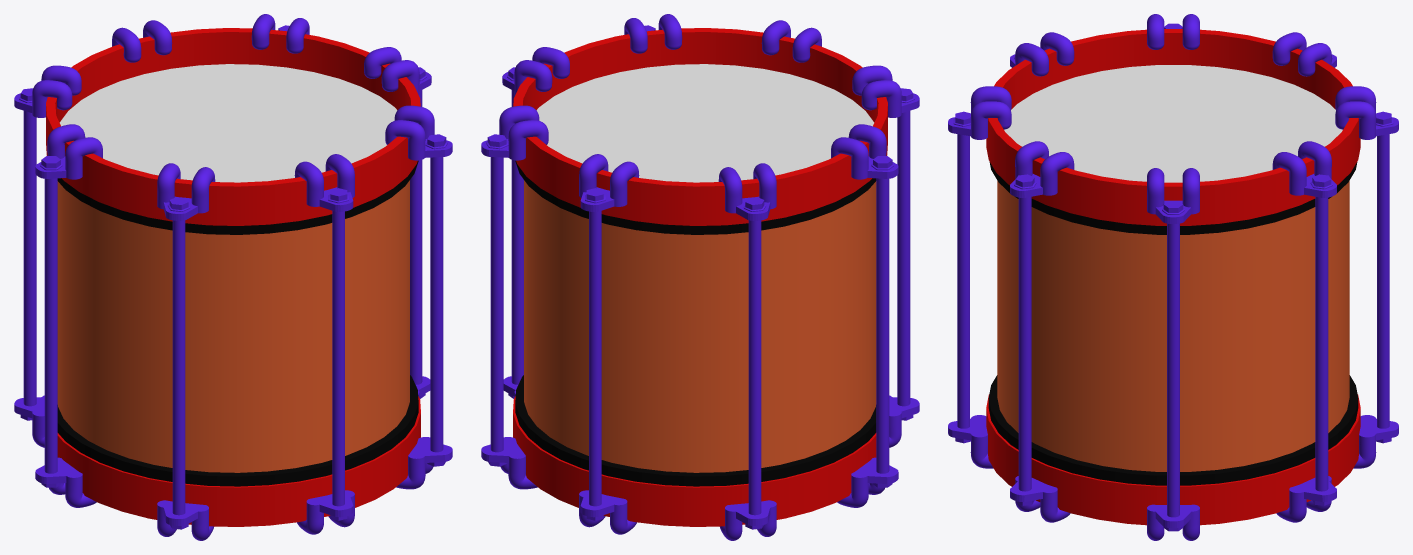
The model's file is Drums.fbx.
3 renders of one model, left to right at view 1: azimuth 30°, elevation 25°; view 2: azimuth 150°, elevation 25°; view 3: azimuth 270°, elevation 25°, orthographic.
Visible parts, largest first — view 1: Cylinder, Cylinder.002, Cylinder.008, Cylinder.006, Cylinder.004, Cylinder.007, Cylinder.001, Cylinder.003, Cylinder.005; view 2: Cylinder, Cylinder.002, Cylinder.005, Cylinder.007, Cylinder.003, Cylinder.006, Cylinder.001, Cylinder.004, Cylinder.008; view 3: Cylinder, Cylinder.005, Cylinder.008, Cylinder.001, Cylinder.003, Cylinder.004, Cylinder.006, Cylinder.007, Cylinder.002.
Part boxes in pixels (x1,y1,x2,y2): Cylinder: (46,28,420,526); Cylinder.002: (35,124,102,507); Cylinder.008: (385,105,452,489); Cylinder.006: (157,163,215,540); Cylinder.004: (294,154,354,534); Cylinder.007: (14,65,81,447); Cylinder.001: (364,47,431,398); Cylinder.003: (112,20,172,62); Cylinder.005: (251,14,309,53); Cylinder: (513,28,887,526); Cylinder.002: (831,124,898,507); Cylinder.005: (481,105,548,489); Cylinder.007: (718,163,776,540); Cylinder.003: (579,154,639,534); Cylinder.006: (852,65,919,447); Cylinder.001: (502,47,569,398); Cylinder.004: (761,20,821,62); Cylinder.008: (624,14,682,53); Cylinder: (986,29,1360,525); Cylinder.005: (1272,141,1336,522); Cylinder.008: (1010,141,1074,522); Cylinder.001: (1147,168,1199,540); Cylinder.003: (1335,86,1398,468); Cylinder.004: (948,86,1011,468); Cylinder.006: (1010,32,1074,76); Cylinder.007: (1272,32,1336,76); Cylinder.002: (1147,14,1199,49).
Size of the model in its own units: 241 by 216 by 241.
